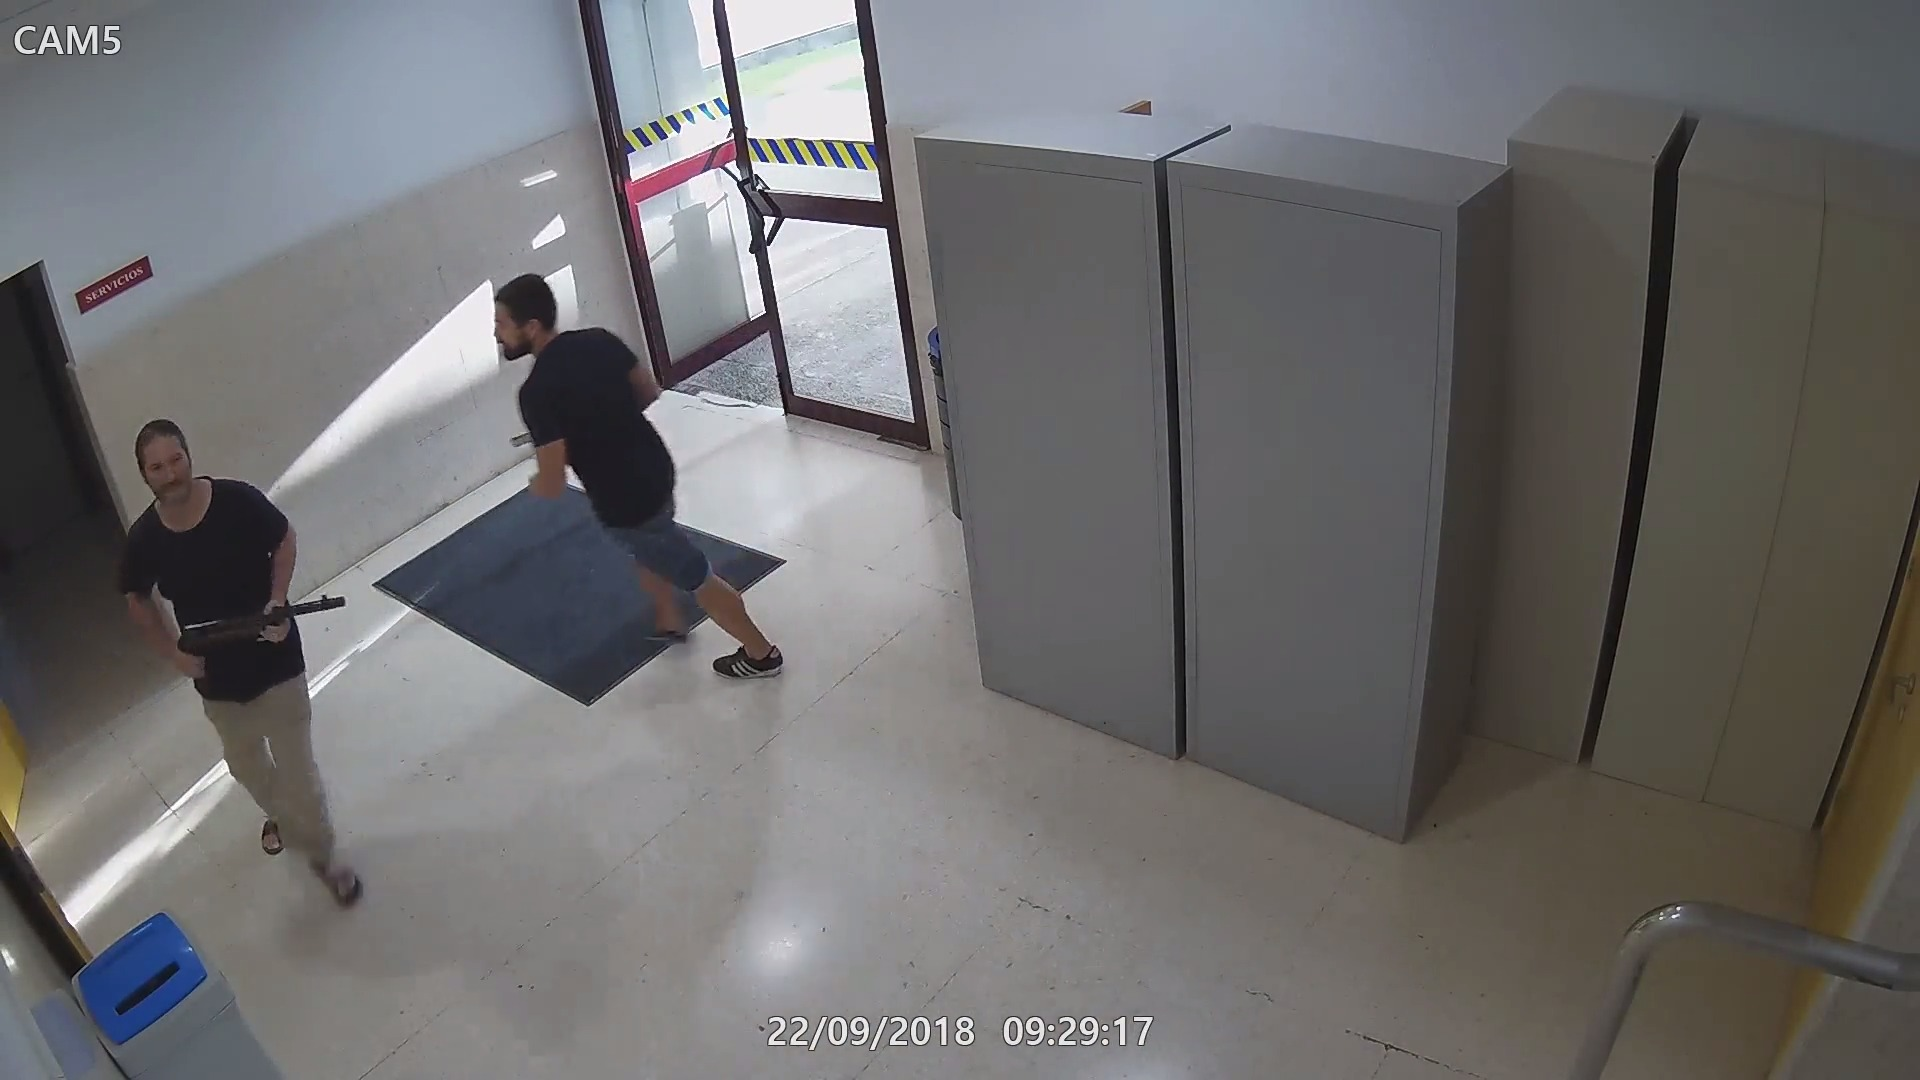rifle: (165, 592, 349, 683)
